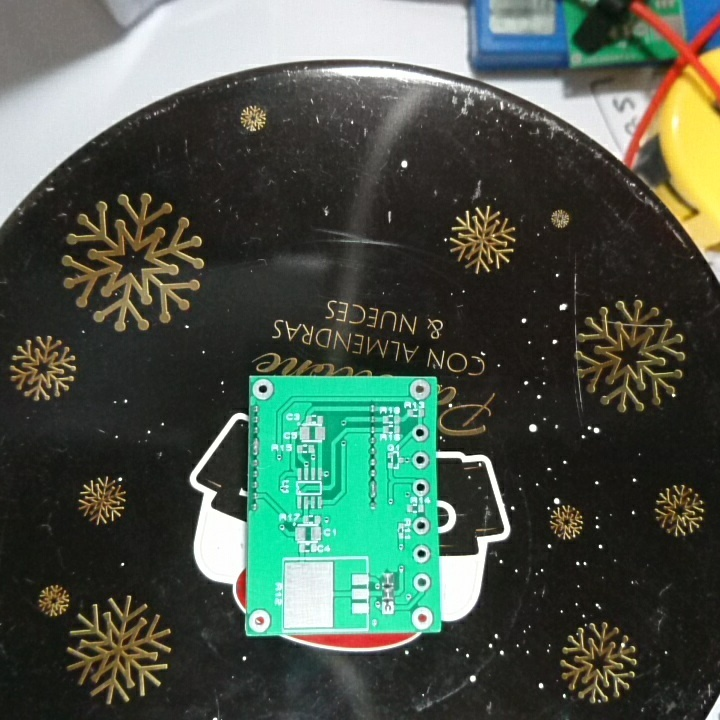F: (246, 609, 276, 635), (408, 605, 435, 632), (407, 378, 433, 402), (410, 515, 435, 538), (251, 378, 277, 400), (410, 543, 433, 565), (410, 449, 432, 471), (411, 571, 433, 593), (412, 424, 432, 445), (412, 476, 430, 497), (381, 600, 398, 617)
P: (248, 437, 263, 457), (368, 479, 381, 499)
